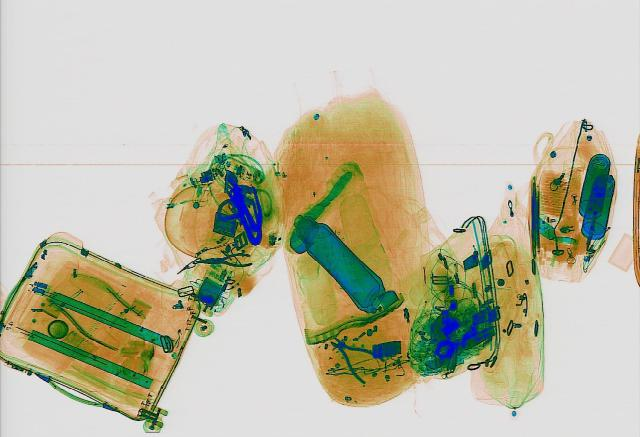Pliers: (318, 330, 396, 382)
